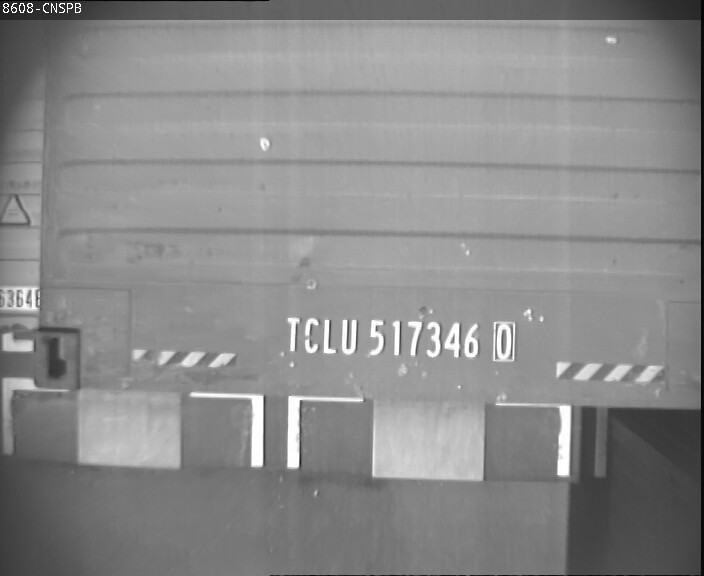groundmarker_1: (189, 391, 364, 467)
